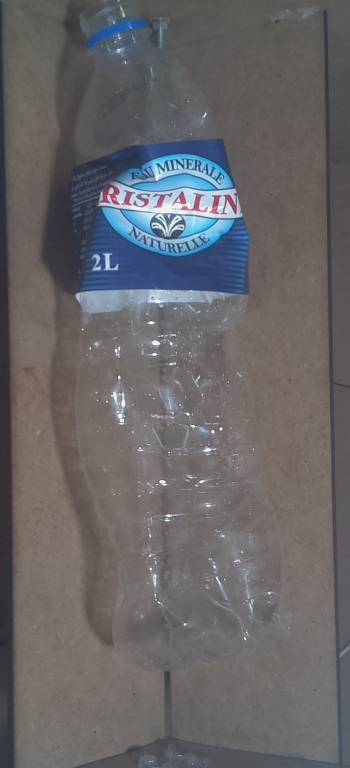Bouteille_2L: (60, 2, 302, 672)
